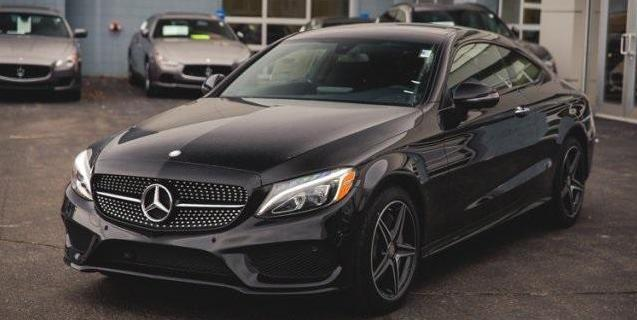C300Coupe: (57, 16, 599, 306)
